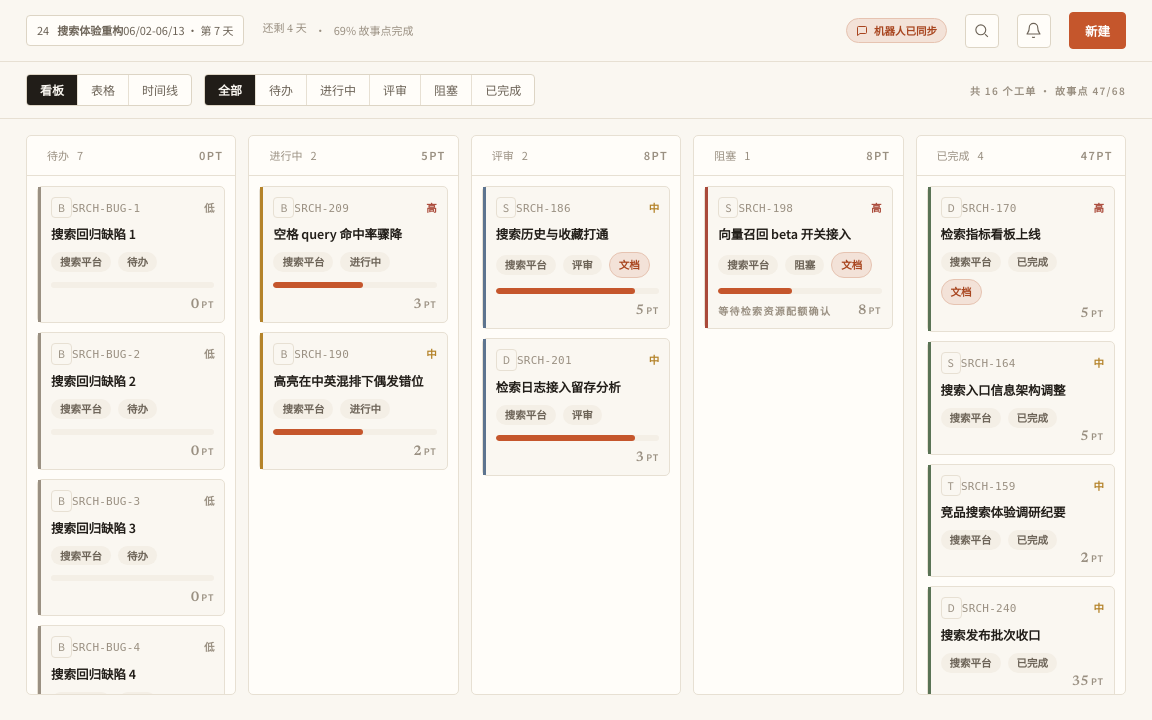
Scenario: issues ledger and board routes › shows a complete board table without assignee columns
The width and height of the screenshot is (1152, 720).
Click the button "表格". click: [104, 90]
box: [78,75,129,105]
(page scrolled)
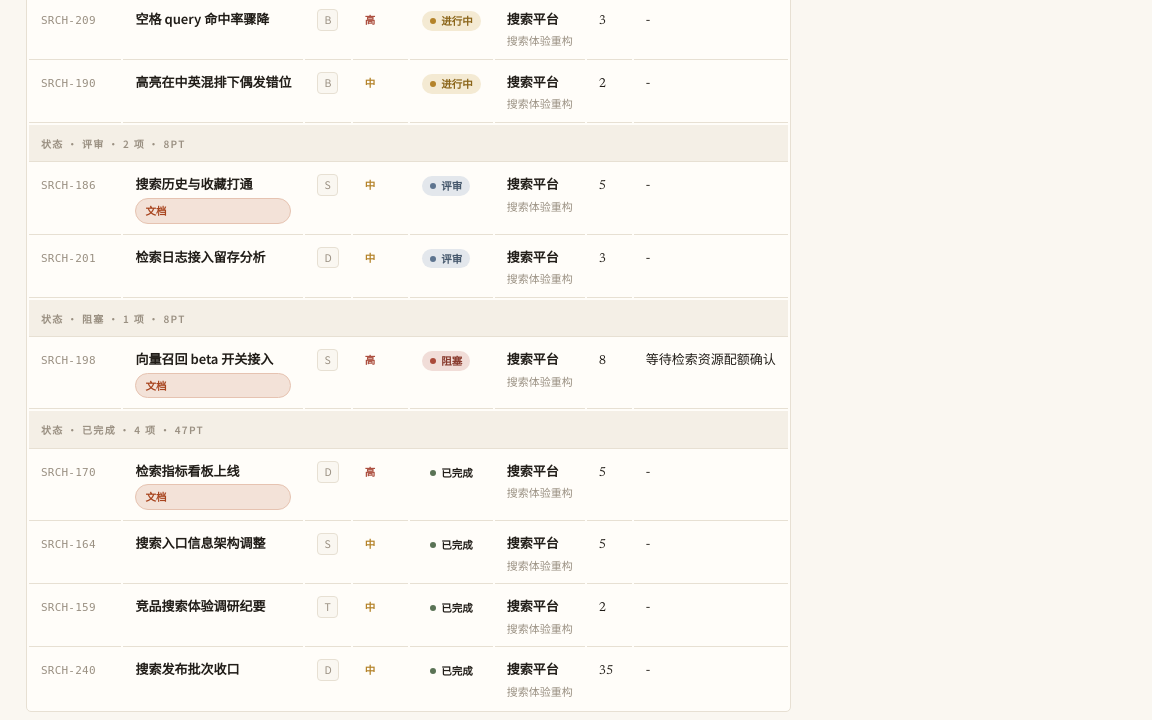
Expected: the text "等待检索资源配额确认" is shown, [634,339,788,409]
Now the text "状态 · 阻塞 · 1 项 · 8pt" is shown, box [41,310,186,326]
